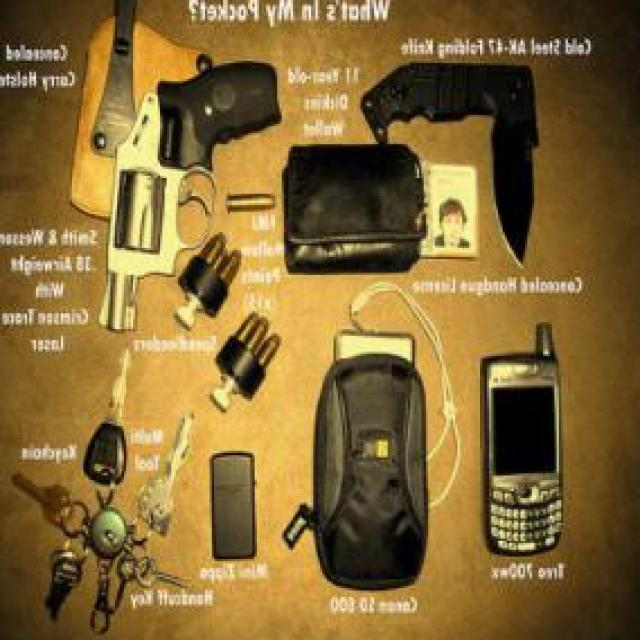pistol: (100, 56, 277, 338)
